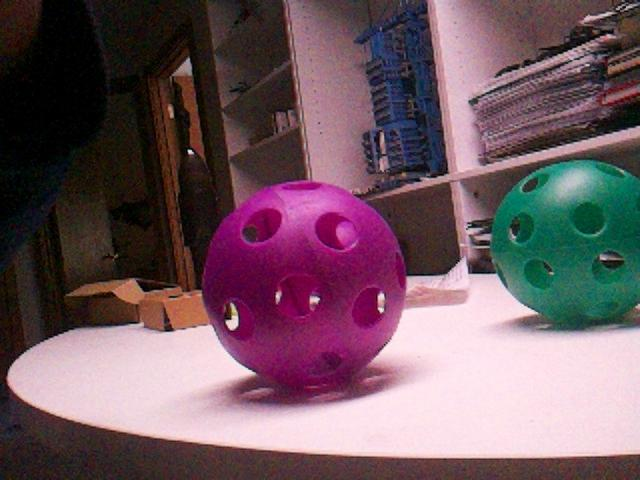Green: (488, 159, 636, 326)
Purple: (199, 181, 405, 390)
